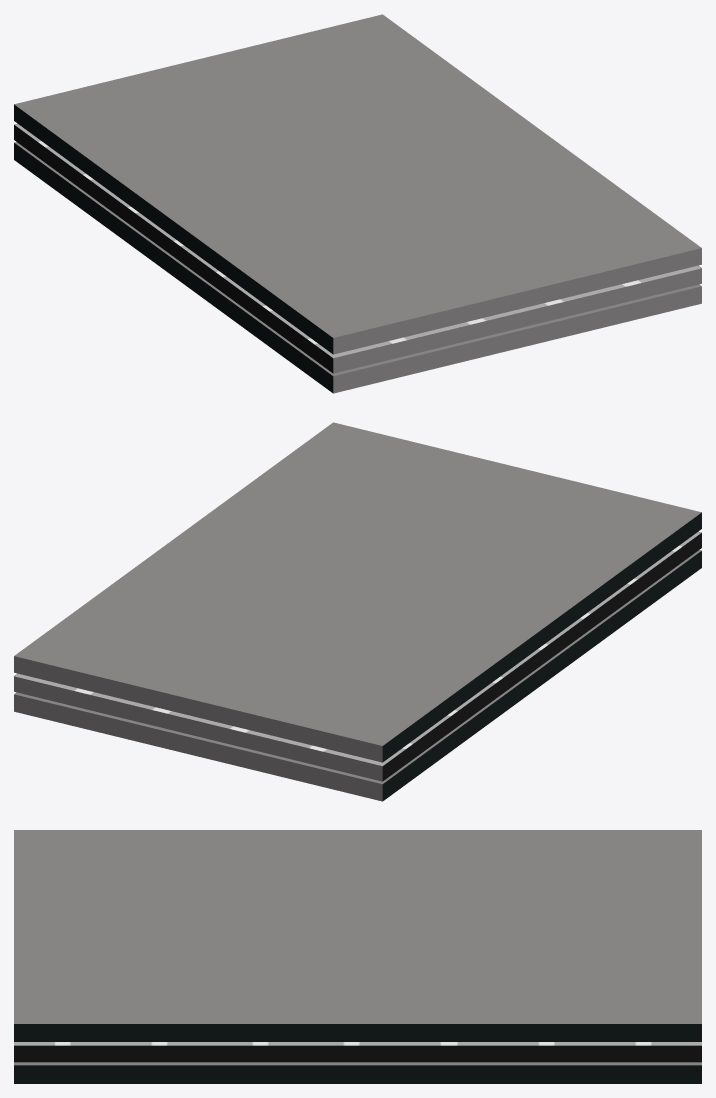
Rendered from Bridge.fbx.
3 views of the same model, one above another, from view 1: azimuth 30°, elevation 25°; view 2: azimuth 150°, elevation 25°; view 3: azimuth 270°, elevation 25° (orthographic). The views are drawn at different scales.
Visible parts, largest first — view 1: Bridge_02; view 2: Bridge_02; view 3: Bridge_02.
Boxes of the visible parts, x1,y1,x2,y2 form: Bridge_02: (14,14,701,393); Bridge_02: (14,422,701,801); Bridge_02: (14,830,701,1083).
Bounding box in the file's own units: 200 × 28.8 × 300.
